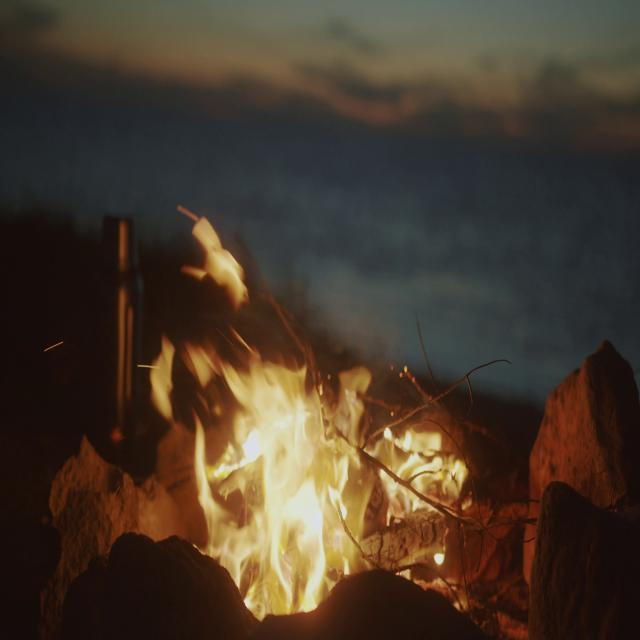Fire: (160, 348, 466, 626)
